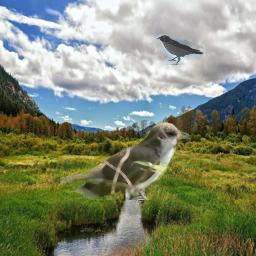Crow: (156, 34, 204, 65)
Cuckoo: (60, 121, 191, 200)
